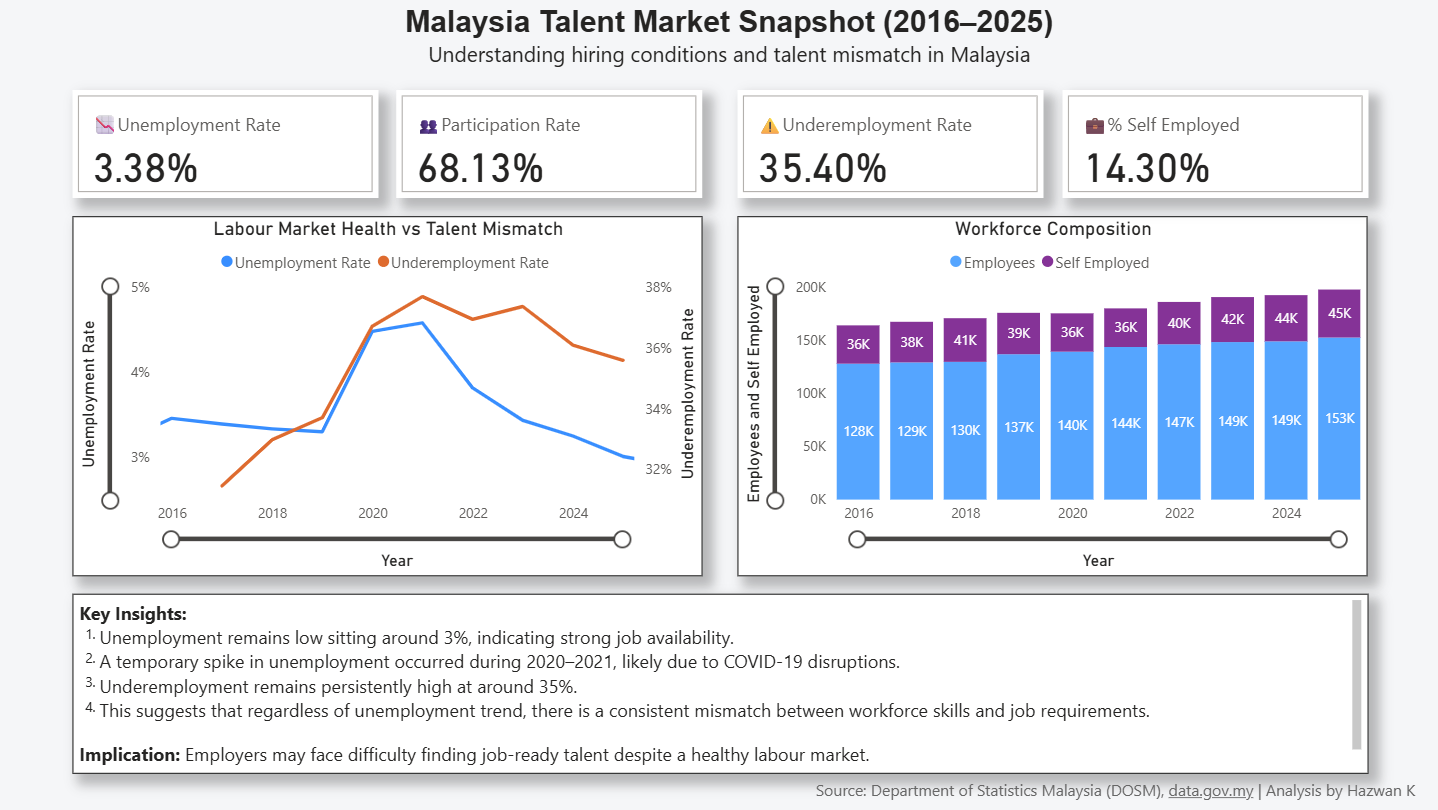

The page's visual inventory and layout, read from the dashboard file:
{"tool":"powerbi","page":{"name":"Page 1","canvas":[1280,720],"ordinal":0},"visuals":[{"type":"textbox","box":[352,0,592,80],"z":0},{"type":"cardVisual","title":"📉 Unemployment Rate","fields":{"Data":["Measures Folder.Unemployment Rate"]},"box":[64,80,272,96],"z":1000},{"type":"cardVisual","fields":{"Data":["Measures Folder.Participation Rate"]},"box":[352,80,272,96],"z":2000},{"type":"cardVisual","fields":{"Data":["Measures Folder.Underemployment Rate"]},"box":[656,80,272,96],"z":3000},{"type":"lineChart","title":"Labour Market Health vs Talent Mismatch","fields":{"Category":["Dim_Year.Year"],"Y":["Measures Folder.Unemployment Rate"],"Y2":["Measures Folder.Underemployment Rate"]},"box":[64,192,560,320],"z":4000},{"type":"columnChart","title":"Workforce Composition","fields":{"Category":["Dim_Year.Year"],"Y":["Sum(fact_employment.Employees)","Measures Folder.Self Employed"]},"box":[656,192,560,320],"z":5000},{"type":"textbox","box":[64,528,1152,160],"z":6000},{"type":"cardVisual","fields":{"Data":["Measures Folder.% Self Employed"]},"box":[944,80,272,96],"z":7000},{"type":"textbox","box":[720,688,560,32],"z":8000}]}

Visuals, with their boxes in screenshot pixels (x1, y1, x2, y2), scaled from the page's 1280x720 canvas onto the 1438x810 screenshot:
textbox: {"x1": 395, "y1": 0, "x2": 1061, "y2": 90}
"📉 Unemployment Rate" cardVisual: {"x1": 72, "y1": 90, "x2": 377, "y2": 198}
cardVisual - Measures Folder.Participation Rate: {"x1": 395, "y1": 90, "x2": 701, "y2": 198}
cardVisual - Measures Folder.Underemployment Rate: {"x1": 737, "y1": 90, "x2": 1043, "y2": 198}
"Labour Market Health vs Talent Mismatch" lineChart: {"x1": 72, "y1": 216, "x2": 701, "y2": 576}
"Workforce Composition" columnChart: {"x1": 737, "y1": 216, "x2": 1366, "y2": 576}
textbox: {"x1": 72, "y1": 594, "x2": 1366, "y2": 774}
cardVisual - Measures Folder.% Self Employed: {"x1": 1061, "y1": 90, "x2": 1366, "y2": 198}
textbox: {"x1": 809, "y1": 774, "x2": 1437, "y2": 809}
